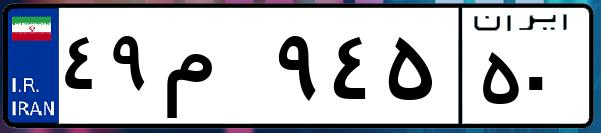0: (525, 38, 570, 115)
4: (330, 28, 385, 110), (57, 26, 110, 100)
5: (385, 28, 445, 110), (475, 38, 525, 113)
9: (270, 28, 330, 110), (110, 28, 158, 98)
م: (158, 20, 270, 120)
